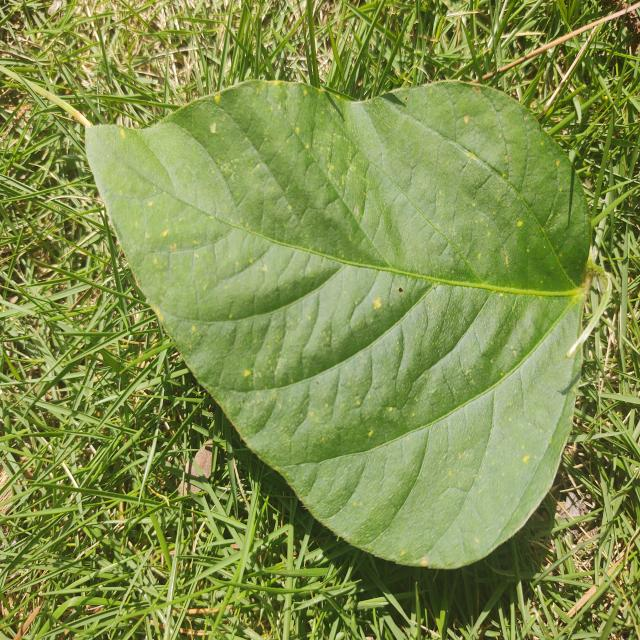Soybean: (84, 80, 601, 599)
downey_mildew: (426, 320, 592, 568), (97, 121, 272, 312), (235, 86, 370, 276), (150, 215, 332, 323), (314, 419, 423, 565), (442, 120, 532, 292), (413, 385, 497, 557), (414, 290, 521, 418), (295, 267, 400, 377), (277, 365, 386, 447), (89, 122, 175, 221), (374, 165, 442, 284), (303, 444, 376, 523), (448, 146, 500, 235)
